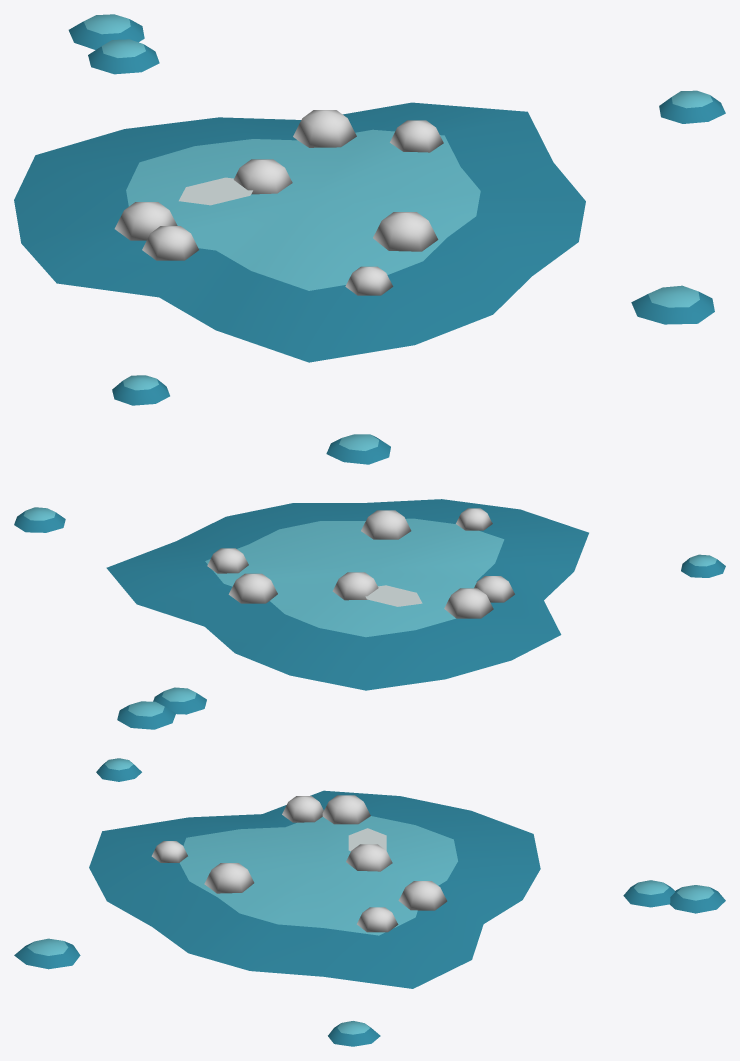
Rendered from FX_Slime.fbx.
3 renders of one model, top to bottom at view 1: azimuth 30°, elevation 25°; view 2: azimuth 150°, elevation 25°; view 3: azimuth 270°, elevation 25°, orthographic. The views are drawn at different scales.
Parts seen in each view (by area): view 1: FX_Slime; view 2: FX_Slime; view 3: FX_Slime.
Part boxes in pixels (bbox=[...]): FX_Slime: bbox=[14, 14, 725, 405]; FX_Slime: bbox=[14, 434, 725, 729]; FX_Slime: bbox=[14, 758, 725, 1046].
Bounding box in the file's own units: 1.53 × 0.0873 × 1.62.
